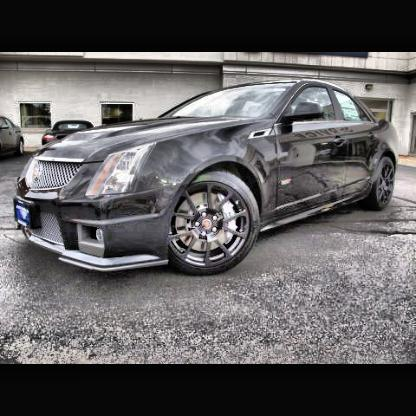Cadillac CTS-V Sedan 2012: (15, 84, 397, 275)
